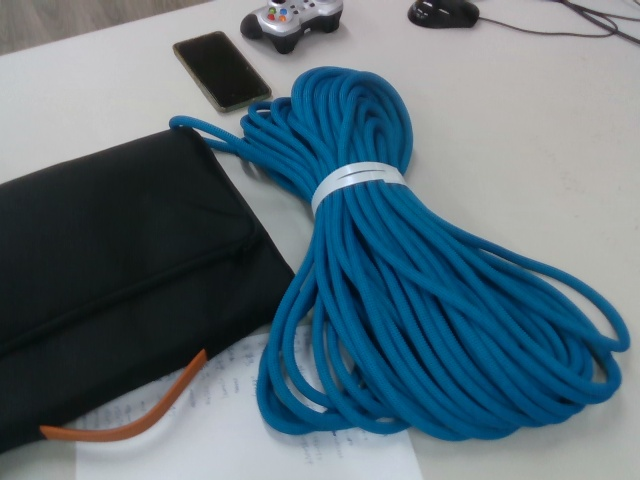rope: (166, 64, 634, 444)
